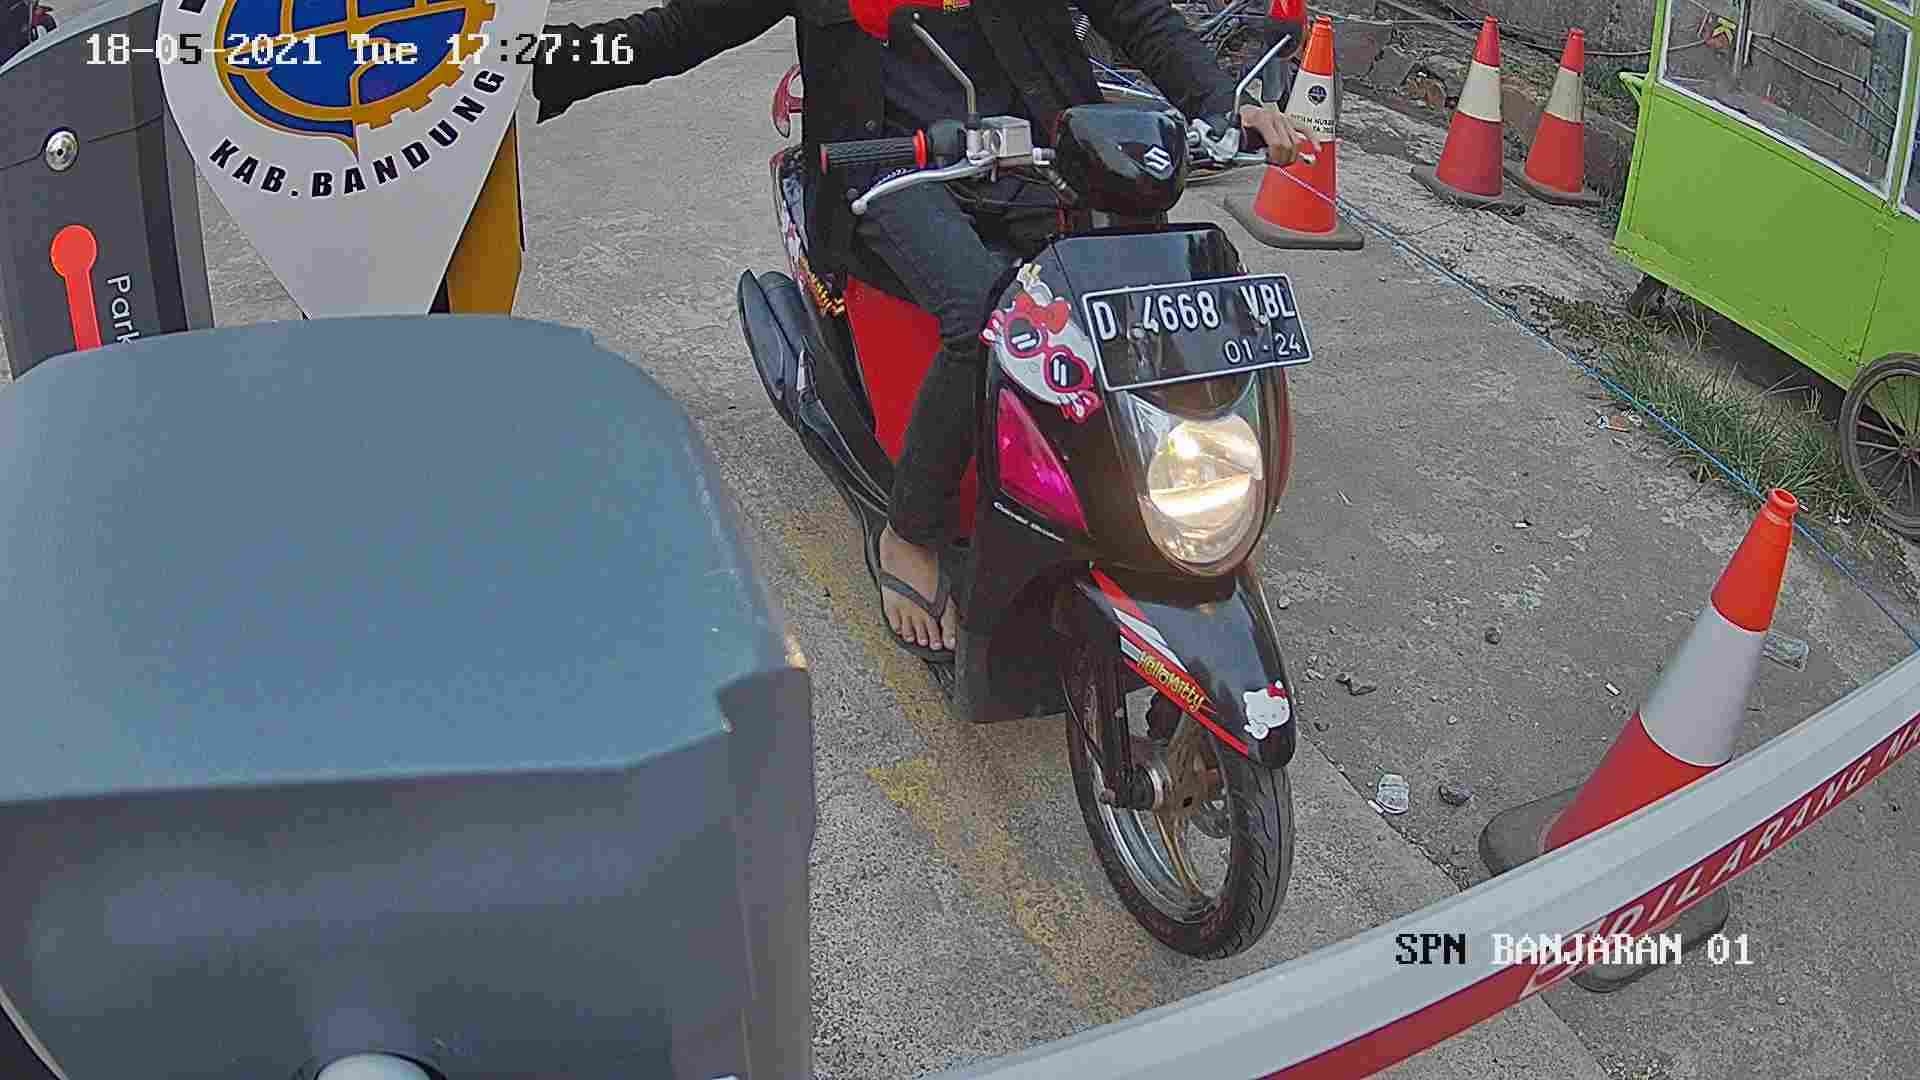motor: (778, 50, 1378, 947)
